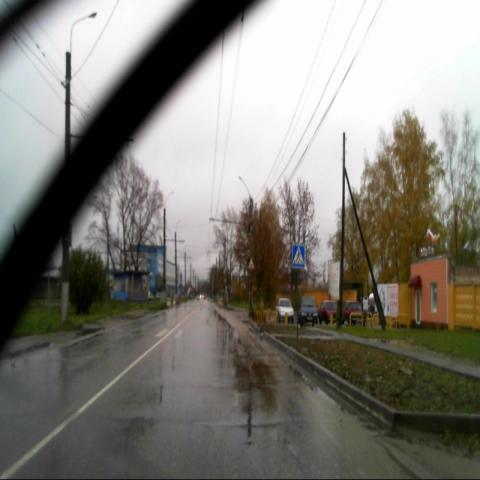5_19_1: (290, 244, 306, 268)
